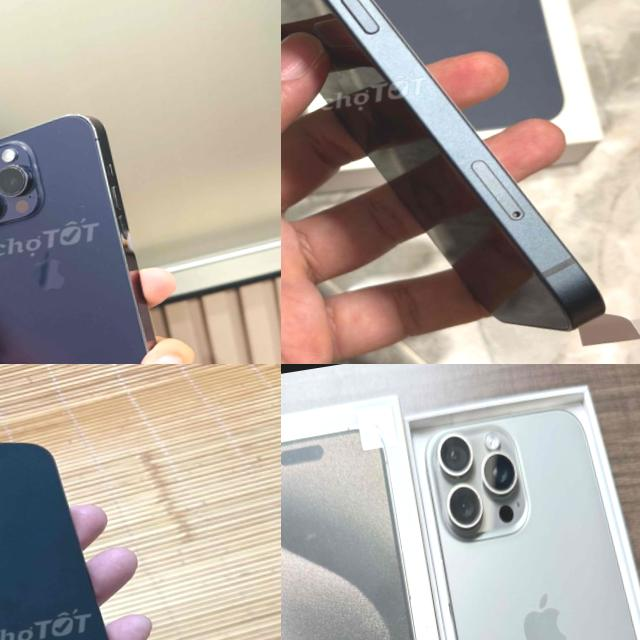gen_12_13: (281, 0, 598, 364)
gen_14: (0, 100, 179, 364)
gen_15: (411, 391, 640, 640)
gen_x_xs: (0, 443, 109, 640)
